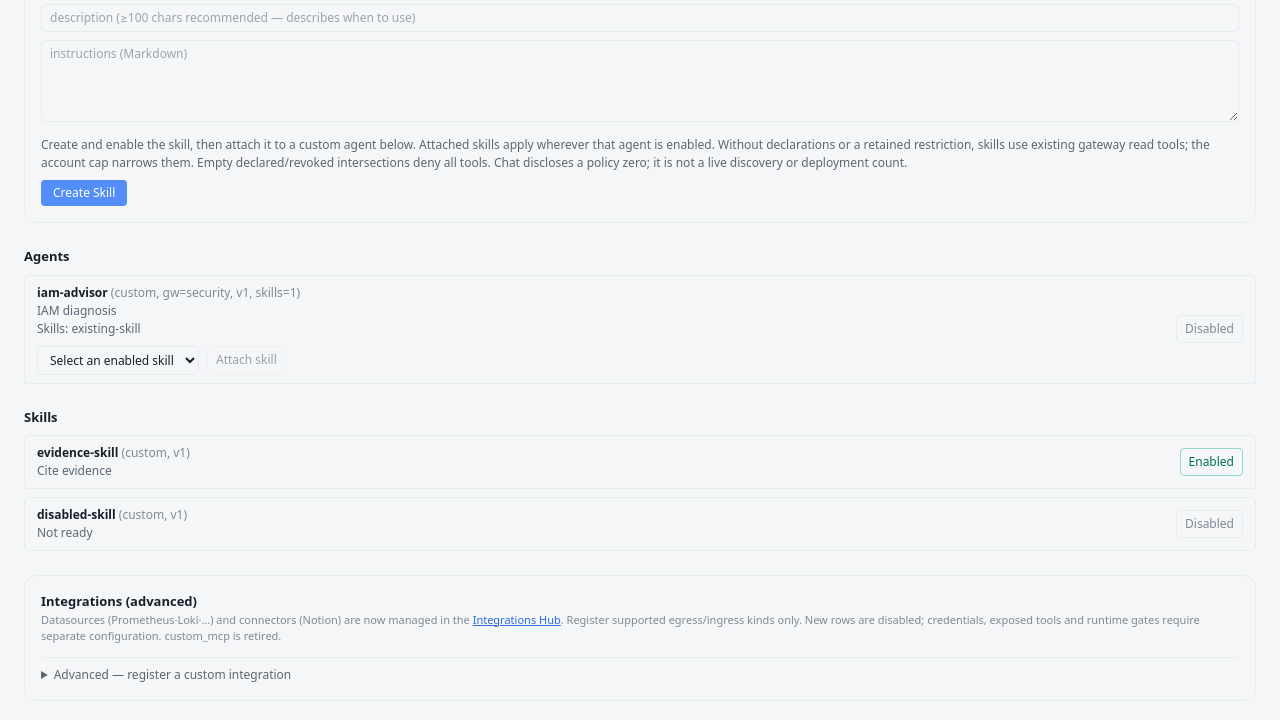
custom agent registration › attaches an enabled skill after existing skills and refreshes the visible composition
This screenshot has width=1280, height=720.
(page scrolled)
Select "evidence-skill" in the dropdown named "Skill for iam-advisor" at (118,360), box [37, 346, 199, 374]
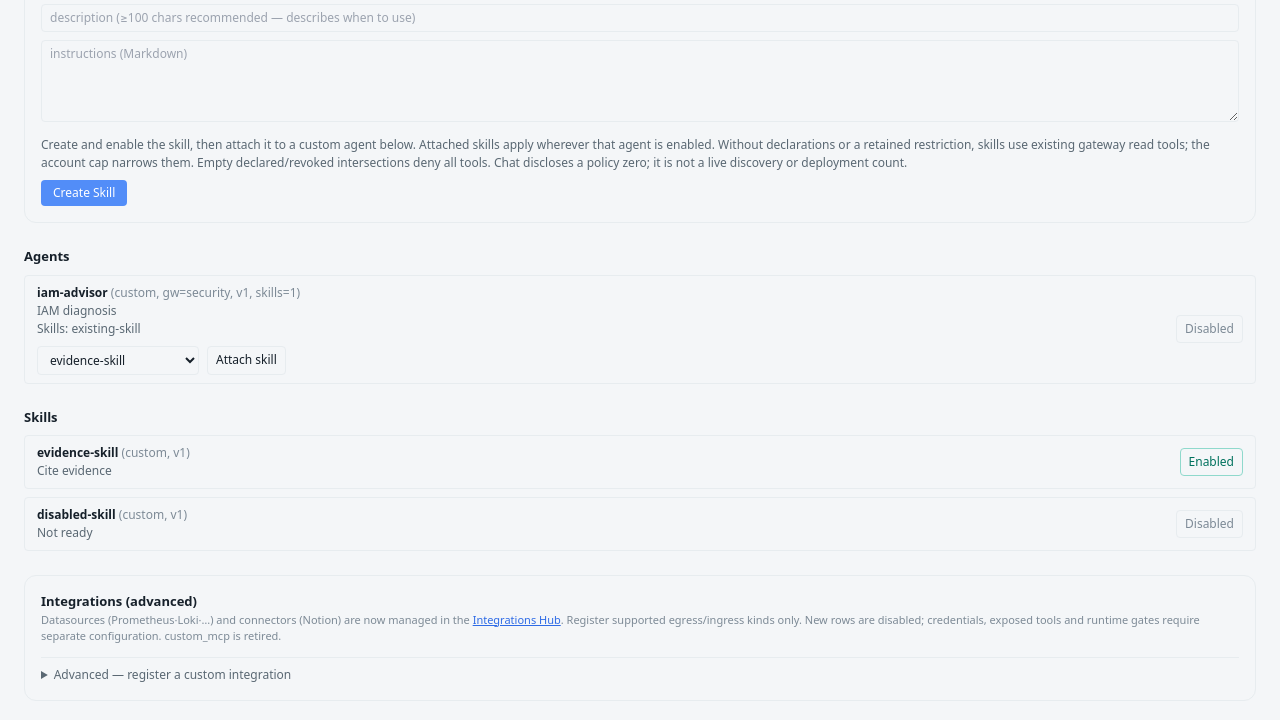
Click the button with aria-label "Attach skill to iam-advisor".
click(246, 360)  # box [207, 346, 286, 374]
(page scrolled)
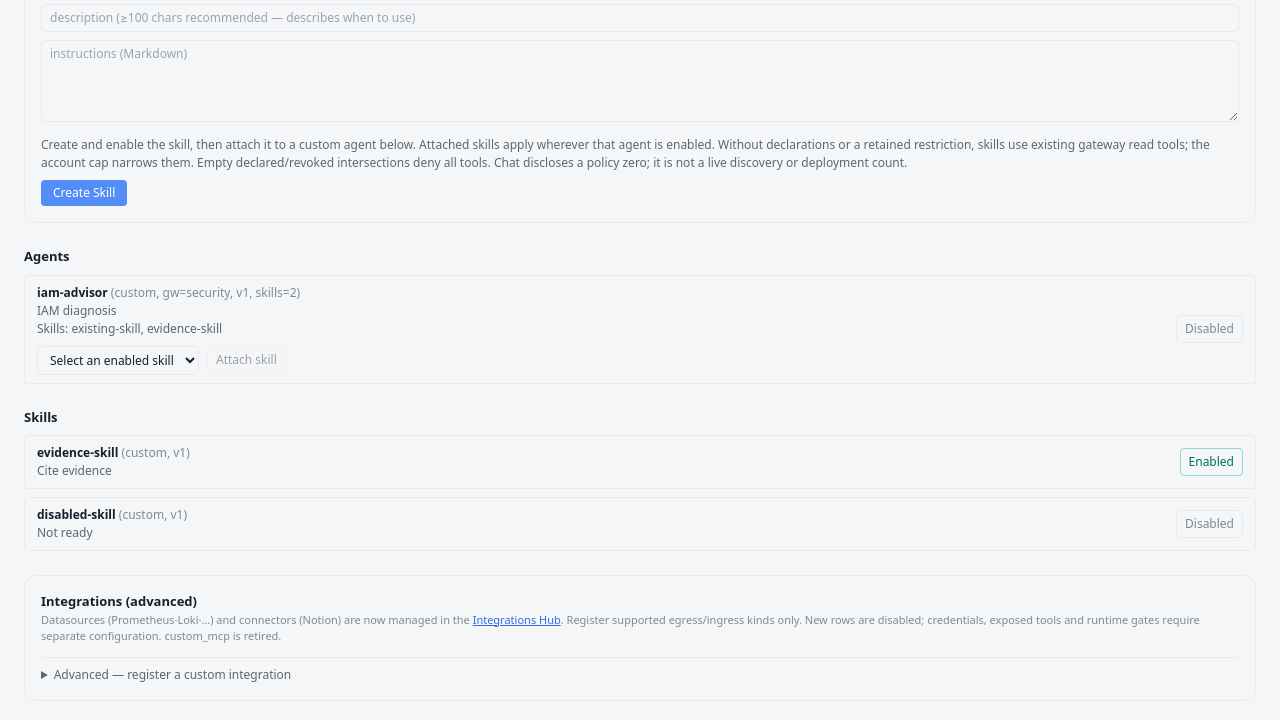
Expected: the button "Disabled" in the row of "existing-skill, evidence-skill" is shown, [1176, 315, 1243, 343]
Expected: the text "Skills: existing-skill, evidence-skill" is shown, [37, 320, 222, 336]
